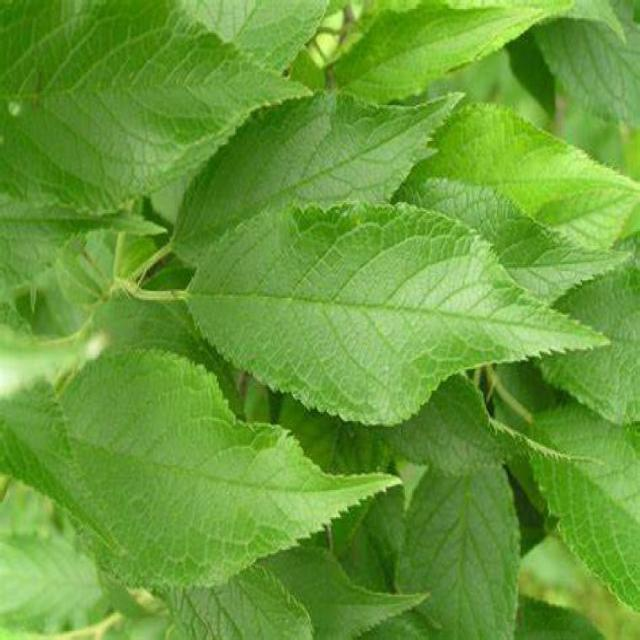kayisi yapragi: (188, 212, 606, 422), (1, 370, 409, 572), (1, 6, 314, 201), (171, 89, 467, 231), (398, 406, 524, 640), (530, 399, 640, 635), (326, 4, 640, 85), (445, 92, 638, 223)
